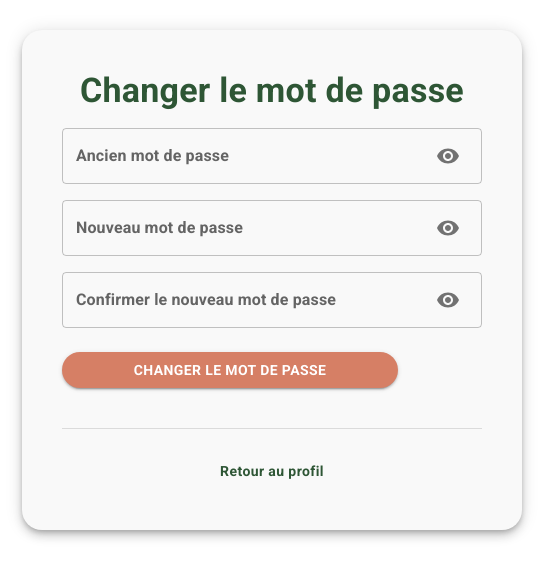
Test case: ChangePasswordPage › shows old password error on failure
Type "WrongOld@1234" into the password field labelled "Ancien mot de passe". click: (241, 156)
box: [62,128,420,184]
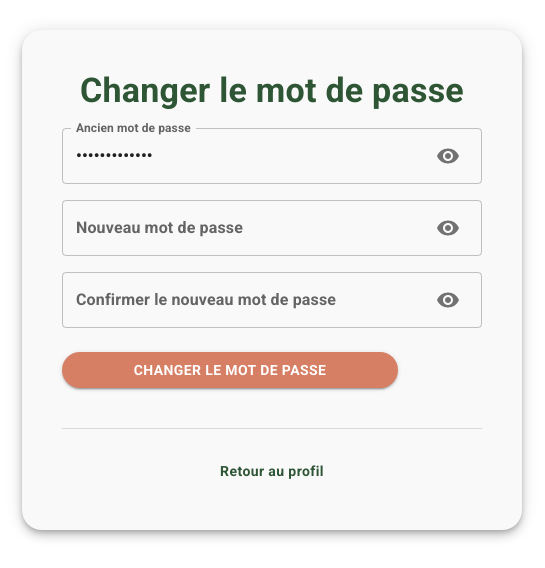
Type "Valid@1234" into the password field labelled "Nouveau mot de passe". click: (241, 228)
box: [62,200,420,256]
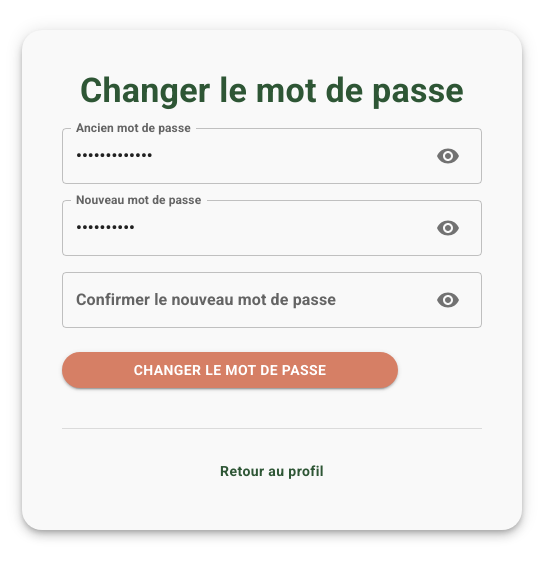
Type "Valid@1234" into the password field labelled "Confirmer le nouveau mot de passe". click: (241, 300)
box: [62,272,420,328]
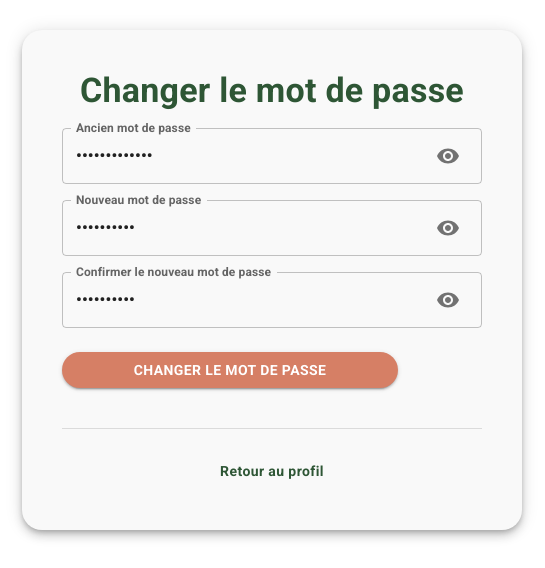
Click the button "Changer le mot de passe". click: click(230, 370)
box: [62,352,398,388]
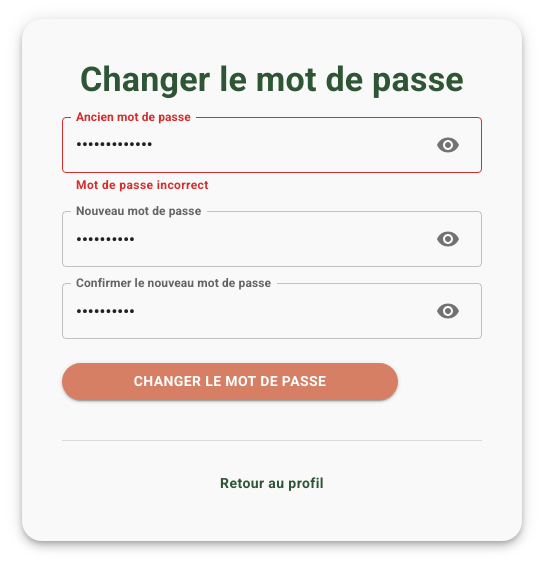
Result: the text "Mot de passe incorrect" is shown at [76,178,209,192]
